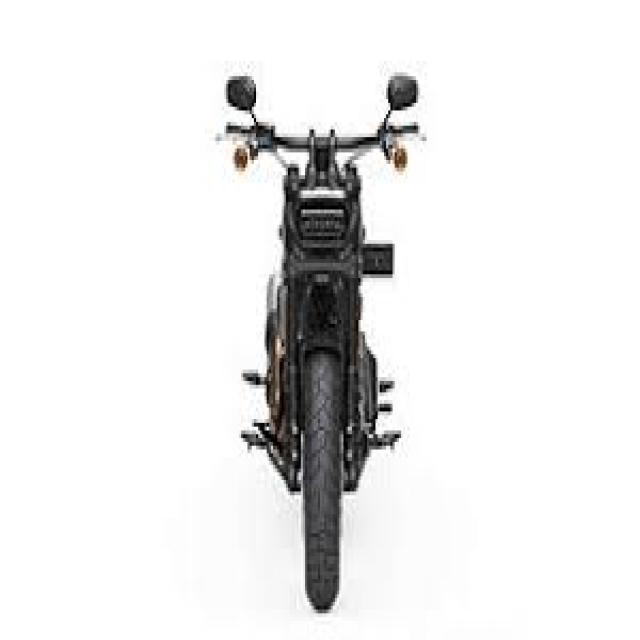Bike: (193, 71, 432, 613)
